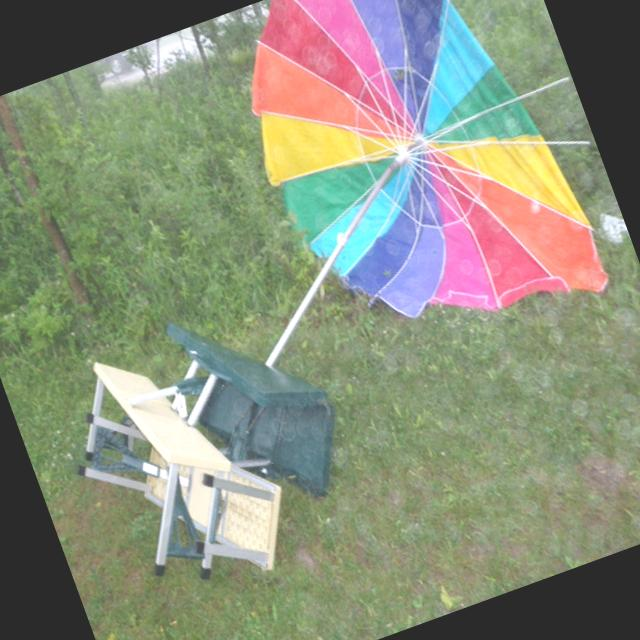Vehicle: (92, 47, 143, 83)
